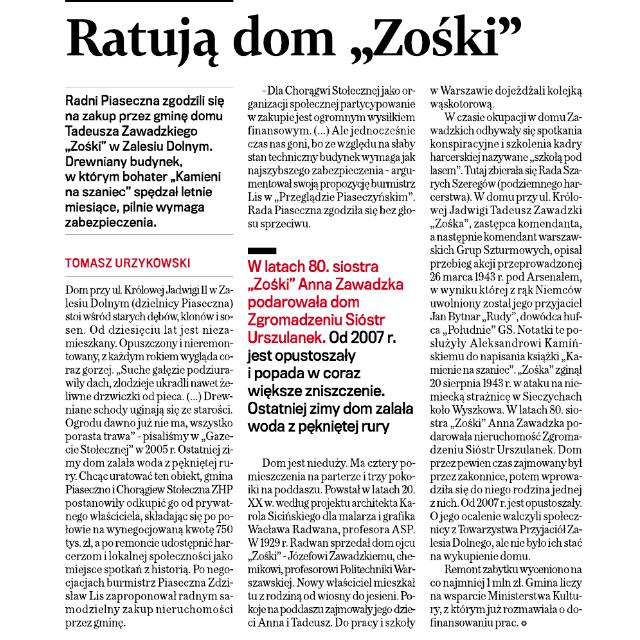author: (61, 250, 196, 274)
body: (424, 82, 586, 632), (60, 280, 236, 632), (242, 243, 418, 439), (242, 452, 418, 632), (242, 84, 418, 232)
lead: (61, 90, 228, 232)
title: (61, 6, 532, 78)
